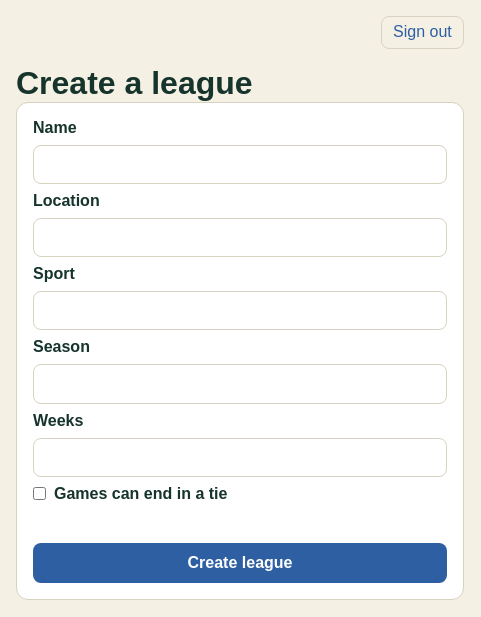
Scenario: a blank Weeks box is sent as-is for the backend to refuse, not guessed
In the field labelled "Name": point(240, 164) x1=33 y1=145 x2=447 y2=184, type "Tuesday Cornhole"
In the field labelled "Location": point(240, 238) x1=33 y1=218 x2=447 y2=257, type "Joe's Tavern"
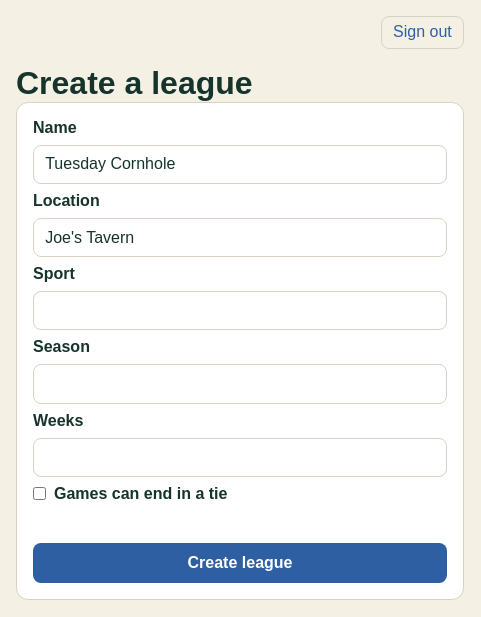
In the field labelled "Sport": point(240, 311) x1=33 y1=291 x2=447 y2=330, type "Cornhole"
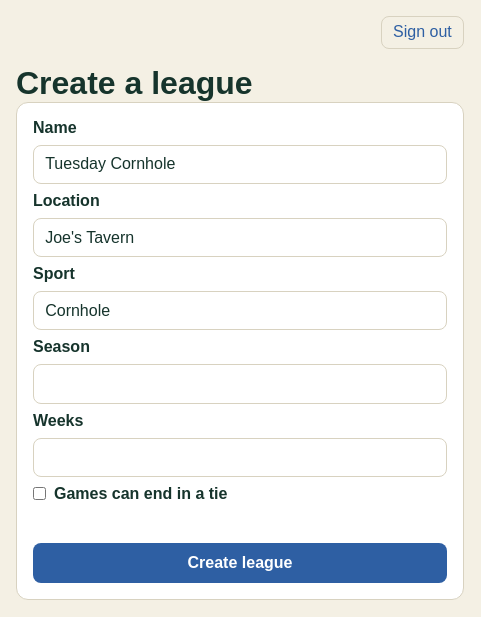
In the field labelled "Season": point(240, 384) x1=33 y1=364 x2=447 y2=404, type "Fall 2026"
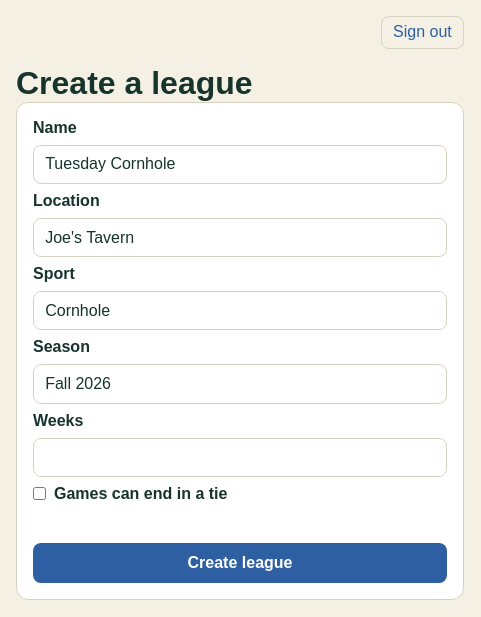
In the number field labelled "Weeks": point(240, 457) x1=33 y1=438 x2=447 y2=477, type "8"
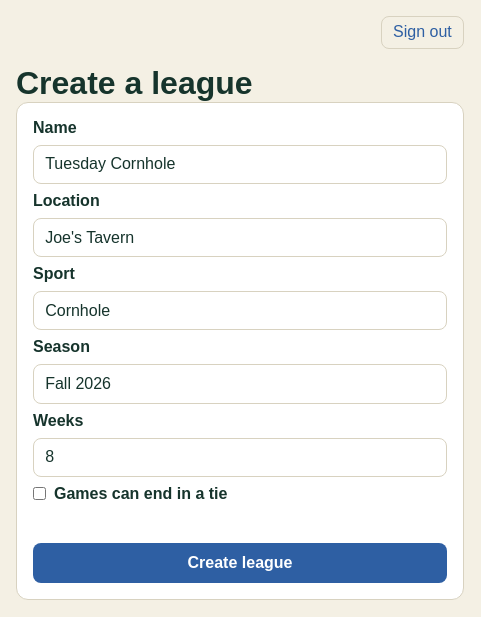
Clear the number field labelled "Weeks": point(240, 457) x1=33 y1=438 x2=447 y2=477
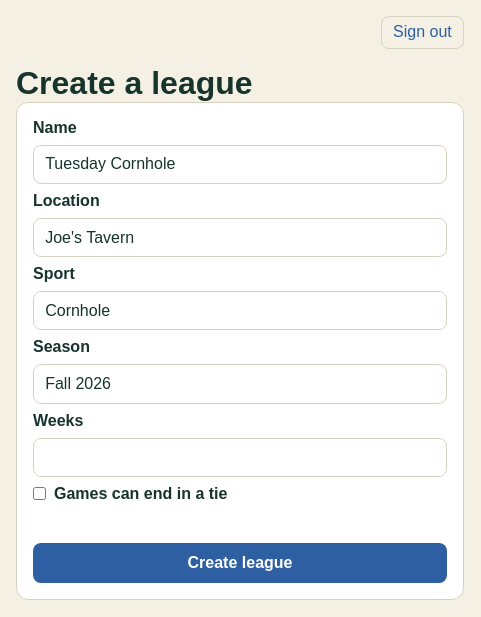
Click the button "Create league": point(240, 563) x1=33 y1=543 x2=447 y2=583
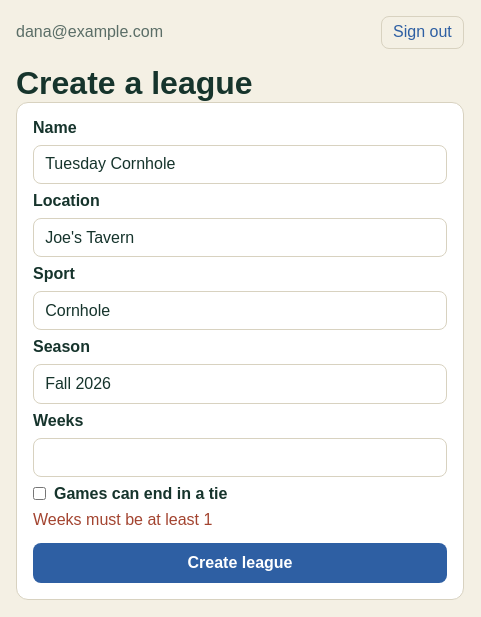
Check: the text "Weeks must be at least 1" is shown, box x1=33 y1=511 x2=212 y2=528
